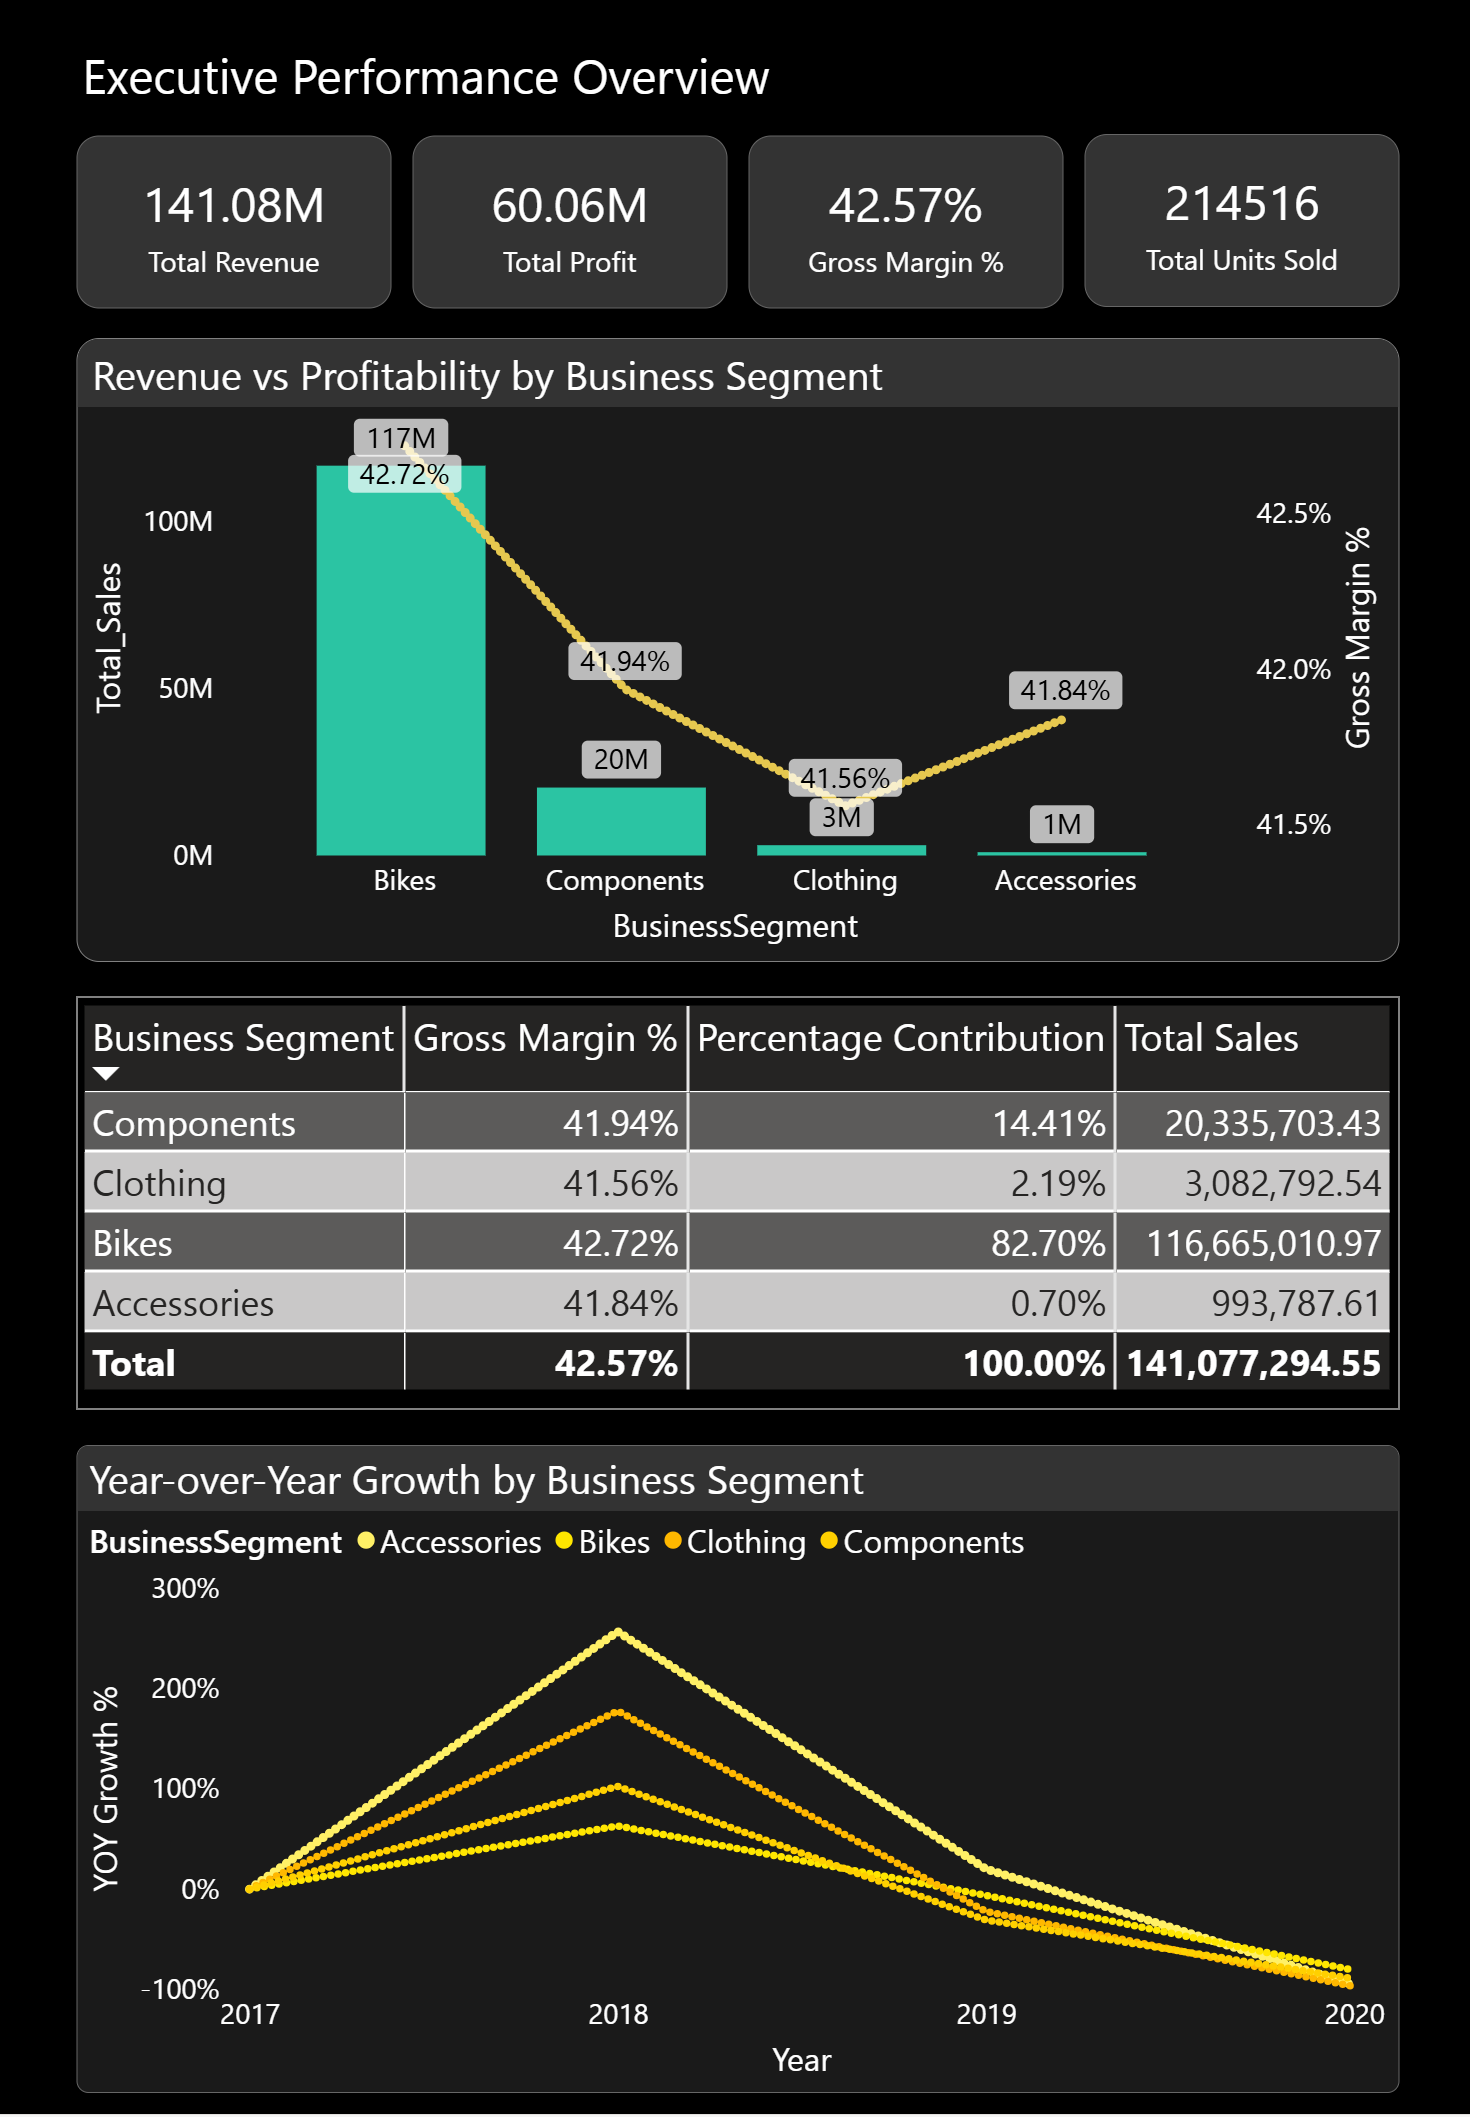

This screenshot's page, from the dashboard's own definition file:
{"tool":"powerbi","page":{"name":"Bike Data 1","canvas":[900,1400],"ordinal":0},"visuals":[{"type":"textbox","box":[10.4,13.4,636.7,66.9],"z":0},{"type":"advanceCardE03760C5AB684758B56AA29F9E6C257B","fields":{"mainMeasure":["Sum(Bike_Data.Sales)"]},"box":[10.5,81.1,210.4,115],"z":1000},{"type":"advanceCardE03760C5AB684758B56AA29F9E6C257B","fields":{"mainMeasure":["Sum(Bike_Data.Profit)"]},"box":[234.7,81.1,210,115],"z":2000},{"type":"advanceCardE03760C5AB684758B56AA29F9E6C257B","fields":{"mainMeasure":["Measure.Gross Margin %"]},"box":[458.6,81.1,210.4,115],"z":3000},{"type":"advanceCardE03760C5AB684758B56AA29F9E6C257B","fields":{"mainMeasure":["Sum(Bike_Data.OrderQty)"]},"box":[682.8,80.3,210,115],"z":4000},{"type":"pivotTable","fields":{"Rows":["Bike_Data.BusinessSegment"],"Values":["Measure.Gross Margin %","Measure.Percentage_Contribution","Sum(Bike_Data.Sales)"]},"box":[10.7,655.4,882.1,275],"z":5000},{"type":"lineStackedColumnComboChart","title":"Revenue vs Profitability by Business Segment","fields":{"Category":["Bike_Data.BusinessSegment"],"Y":["Measure.Total_Sales"],"Y2":["Measure.Gross Margin %"]},"box":[10.7,216.1,882.1,416.1],"z":6000},{"type":"lineChart","title":"Year-over-Year Growth by Business Segment","fields":{"Category":["DateMaster.Year"],"Series":["Bike_Data.BusinessSegment"],"Y":["Measure.YOY SALES"]},"box":[10.7,953.6,882.1,432.1],"z":7000}]}

Visuals, with their boxes on the page's 900x1400 design canvas (x1, y1, x2, y2). These are canvas units, not pixel positions in the 1470x2117 screenshot, which may show the page scaled, cropped or inside an application window:
textbox: {"left": 10, "top": 13, "right": 647, "bottom": 80}
advanceCardE03760C5AB684758B56AA29F9E6C257B - Sum(Bike_Data.Sales): {"left": 10, "top": 81, "right": 221, "bottom": 196}
advanceCardE03760C5AB684758B56AA29F9E6C257B - Sum(Bike_Data.Profit): {"left": 235, "top": 81, "right": 445, "bottom": 196}
advanceCardE03760C5AB684758B56AA29F9E6C257B - Measure.Gross Margin %: {"left": 459, "top": 81, "right": 669, "bottom": 196}
advanceCardE03760C5AB684758B56AA29F9E6C257B - Sum(Bike_Data.OrderQty): {"left": 683, "top": 80, "right": 893, "bottom": 195}
pivotTable - Bike_Data.BusinessSegment x Measure.Gross Margin %: {"left": 11, "top": 655, "right": 893, "bottom": 930}
"Revenue vs Profitability by Business Segment" lineStackedColumnComboChart: {"left": 11, "top": 216, "right": 893, "bottom": 632}
"Year-over-Year Growth by Business Segment" lineChart: {"left": 11, "top": 954, "right": 893, "bottom": 1386}
